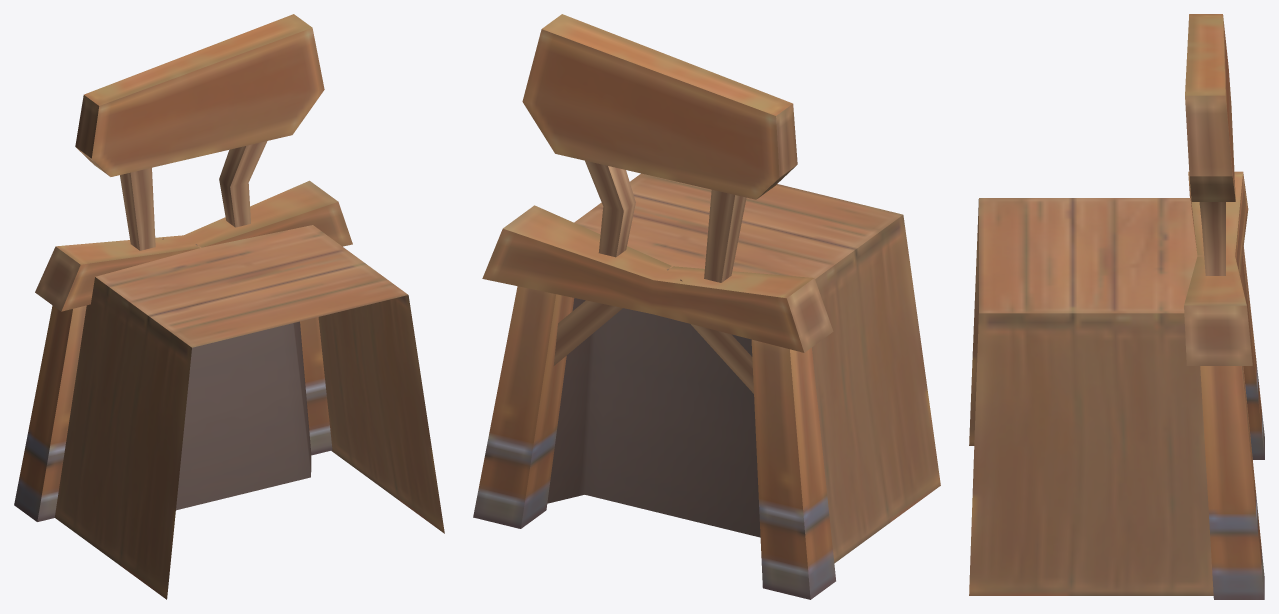
File: field_Buildings_002p.fbx
3 renders of one model, left to right at view 1: azimuth 30°, elevation 25°; view 2: azimuth 150°, elevation 25°; view 3: azimuth 270°, elevation 25°, orthographic. The views are drawn at different scales.
Parts seen in each view (by area): view 1: field_Buildings_002p; view 2: field_Buildings_002p; view 3: field_Buildings_002p.
Boxes of the visible parts, x1,y1,x2,y2 form: field_Buildings_002p: (14,14,444,599); field_Buildings_002p: (473,14,940,599); field_Buildings_002p: (969,14,1264,599).
Bounding box in the file's own units: 58.53 × 80.78 × 44.88.
